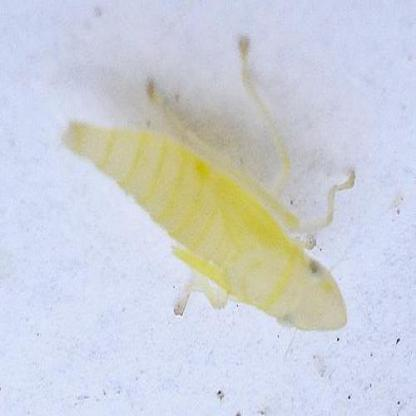green-leafhopper: (65, 36, 359, 334)
